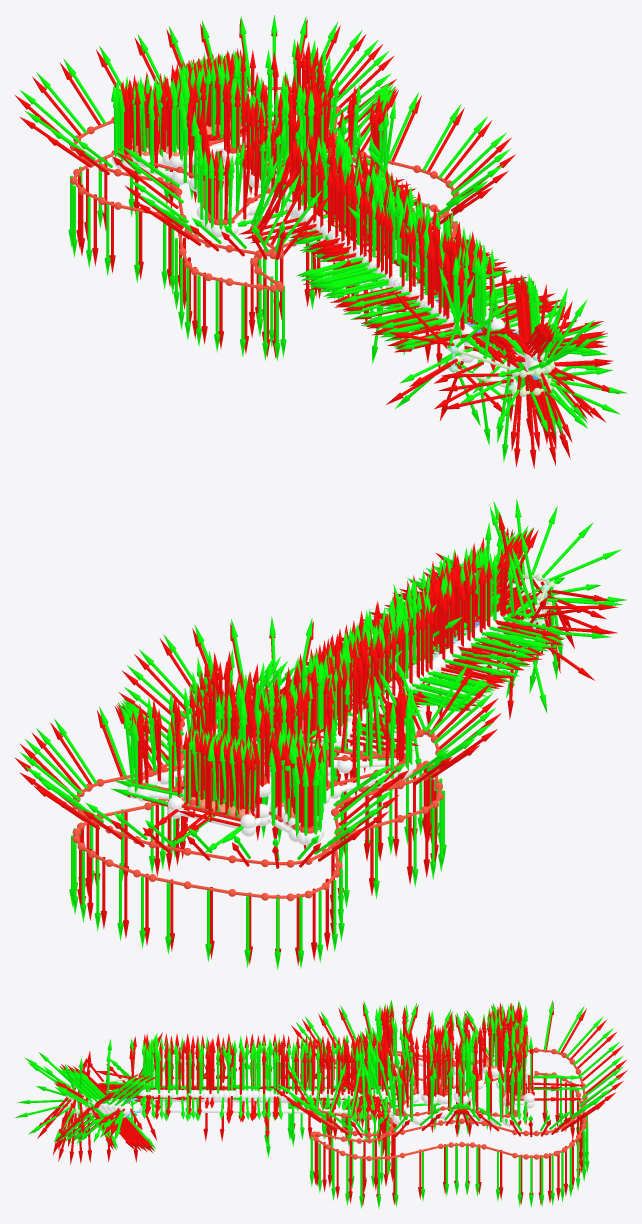
File: onshape_guitar.gltf
3 views of the same model, one above another, from view 1: azimuth 30°, elevation 25°; view 2: azimuth 150°, elevation 25°; view 3: azimuth 270°, elevation 25° (orthographic). The views are drawn at different scales.
Bounding box in the file's own units: 0.5122 × 0.265 × 1.1.
